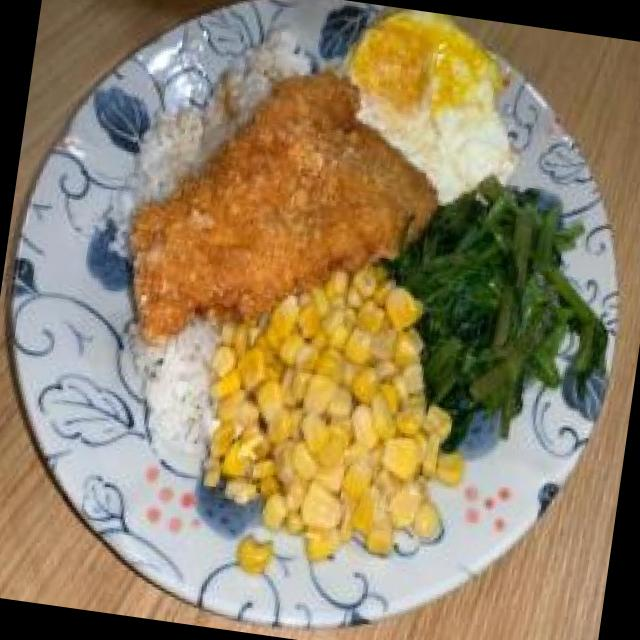fried_chicken: (128, 56, 448, 366)
fried_eggs: (331, 2, 533, 193)
rice: (125, 308, 226, 463)
water_spinach: (386, 180, 602, 436)
